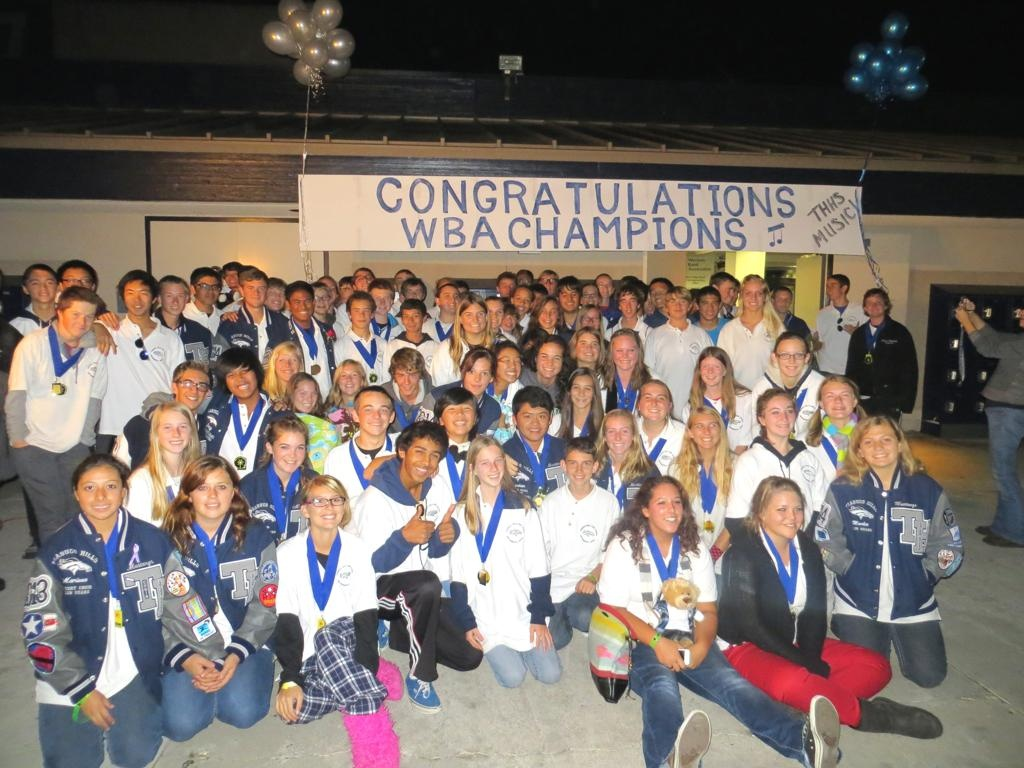human_face: (190, 469, 232, 519), (78, 470, 120, 518), (764, 492, 802, 540), (307, 486, 345, 528), (404, 438, 440, 482), (357, 392, 391, 436), (859, 428, 897, 466), (649, 490, 683, 532), (157, 413, 191, 453), (272, 432, 304, 472), (764, 397, 796, 435), (517, 402, 549, 440), (177, 370, 207, 410), (474, 446, 504, 486), (442, 398, 474, 434), (64, 302, 96, 336), (61, 270, 93, 304), (639, 386, 669, 421), (226, 367, 258, 399), (822, 385, 852, 419), (465, 356, 491, 394), (27, 270, 57, 302), (122, 282, 152, 314), (604, 419, 632, 453), (692, 415, 720, 449), (778, 341, 804, 377), (566, 450, 592, 486), (537, 342, 563, 376), (290, 382, 318, 412), (497, 348, 521, 382), (288, 288, 312, 320), (160, 284, 184, 314), (613, 338, 637, 368), (336, 364, 360, 394), (570, 376, 592, 407), (242, 278, 266, 306), (394, 366, 418, 394), (576, 332, 598, 362), (276, 350, 298, 380), (196, 277, 218, 305), (462, 304, 484, 332), (742, 282, 764, 310), (700, 358, 722, 384), (350, 300, 370, 328), (371, 288, 391, 314), (700, 294, 720, 320), (666, 294, 688, 316), (484, 301, 502, 327), (513, 288, 531, 314), (539, 302, 557, 328), (355, 272, 375, 294), (648, 284, 668, 306), (864, 294, 884, 316), (266, 286, 284, 310), (318, 278, 336, 302), (440, 289, 458, 313), (581, 310, 599, 334), (560, 287, 578, 311), (620, 294, 638, 318), (402, 309, 420, 331), (312, 289, 328, 313), (396, 274, 414, 294), (405, 286, 423, 306), (596, 276, 612, 298), (718, 280, 734, 302), (774, 290, 790, 312), (498, 278, 514, 298), (541, 275, 557, 295), (583, 288, 599, 308), (500, 312, 516, 330), (726, 283, 738, 307), (225, 268, 239, 286), (826, 280, 838, 300), (517, 275, 531, 291), (341, 282, 353, 296), (1010, 308, 1022, 322), (1018, 302, 1024, 326)
